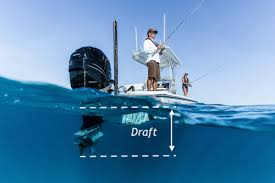boat: (68, 14, 200, 105)
